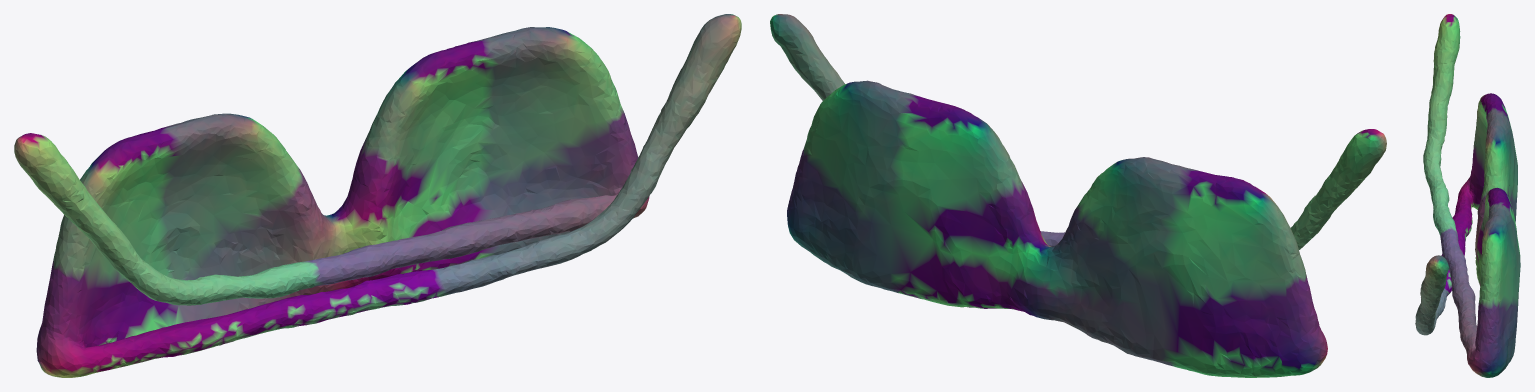
File: glasses-11.off.obj
3 renders of one model, left to right at view 1: azimuth 30°, elevation 25°; view 2: azimuth 150°, elevation 25°; view 3: azimuth 270°, elevation 25°, orthographic. The views are drawn at different scales.
Size of the model in its own units: 1.66 by 0.6407 by 0.3292.
